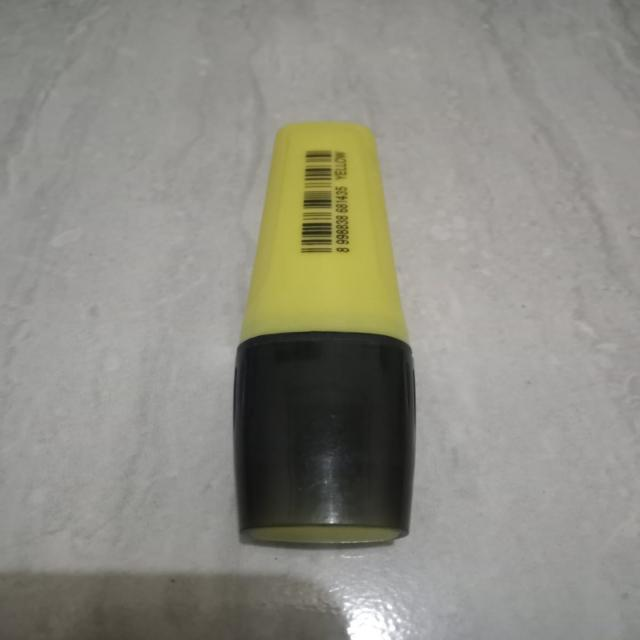highlighter: (203, 94, 453, 570)
